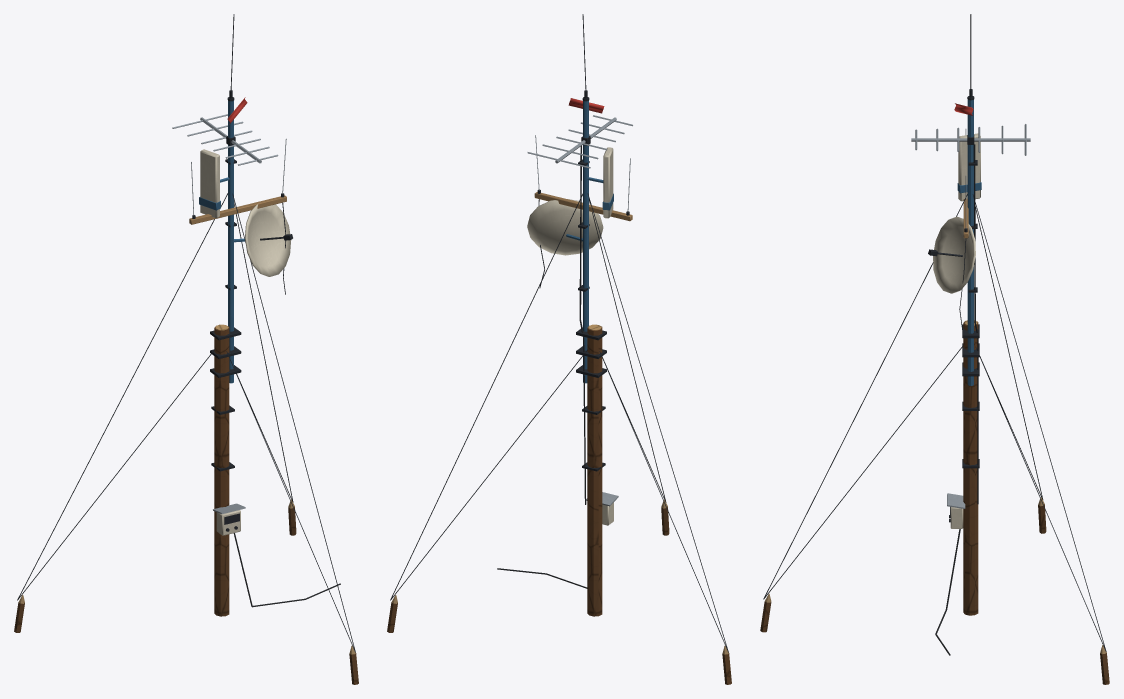
Rendered from antenna_scrap.glb.
3 views of the same model, side by side, from view 1: azimuth 30°, elevation 25°; view 2: azimuth 150°, elevation 25°; view 3: azimuth 270°, elevation 25° (orthographic).
Visible parts, largest first — view 1: antenna_scrap; view 2: antenna_scrap; view 3: antenna_scrap.
Part boxes in pixels (box(x1,y1,x2,y2)): antenna_scrap: box(14, 14, 358, 684); antenna_scrap: box(387, 14, 731, 684); antenna_scrap: box(760, 14, 1109, 684).
Bounding box in the file's own units: 5.21 × 9.56 × 4.98.
Materials: 15 (15 with a texture image).
